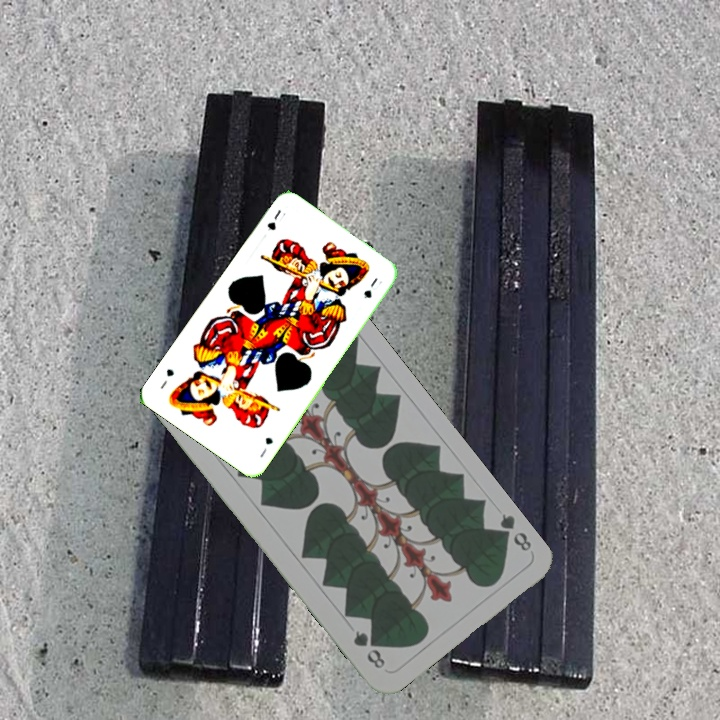G8: (491, 509, 534, 554)
GU: (263, 205, 288, 233), (256, 433, 276, 460)
